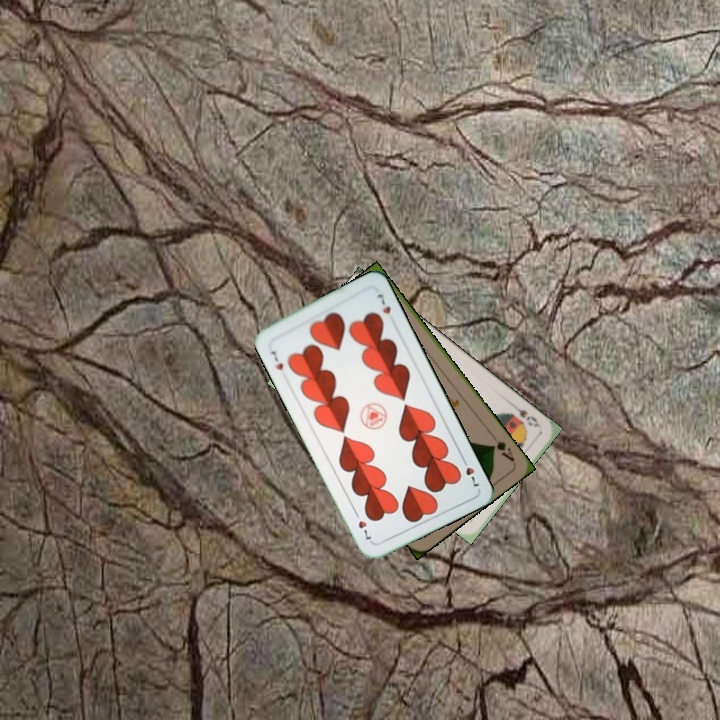GA: (487, 430, 517, 464)
H7: (457, 453, 482, 489), (267, 347, 286, 373)
SO: (509, 401, 543, 430)
